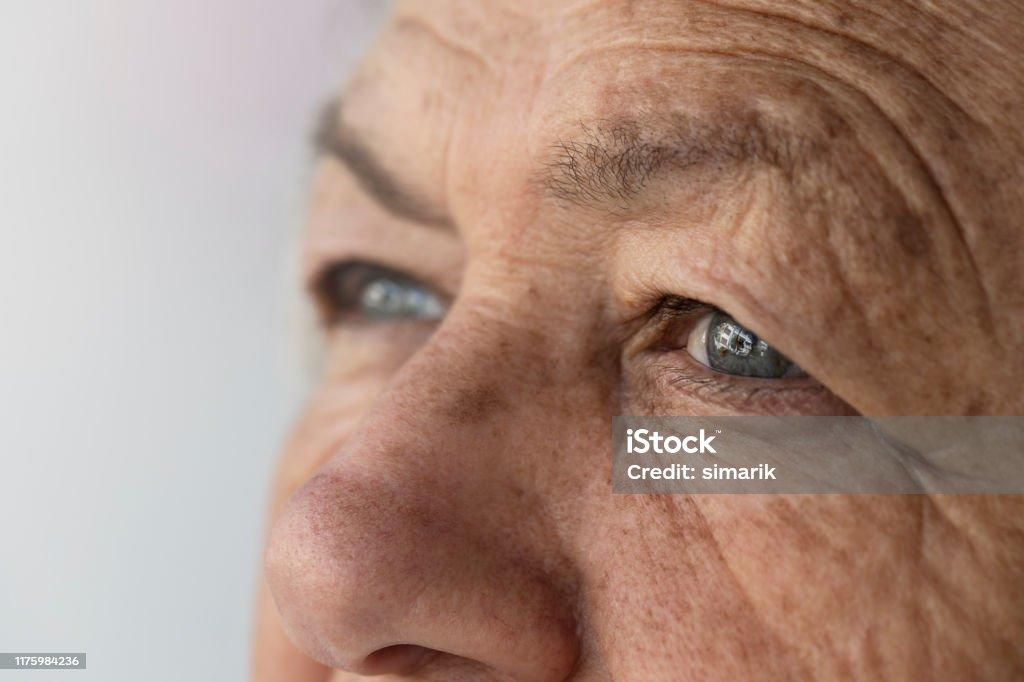Dry-Skin: (338, 398, 623, 617), (733, 446, 979, 677), (506, 0, 859, 119)
